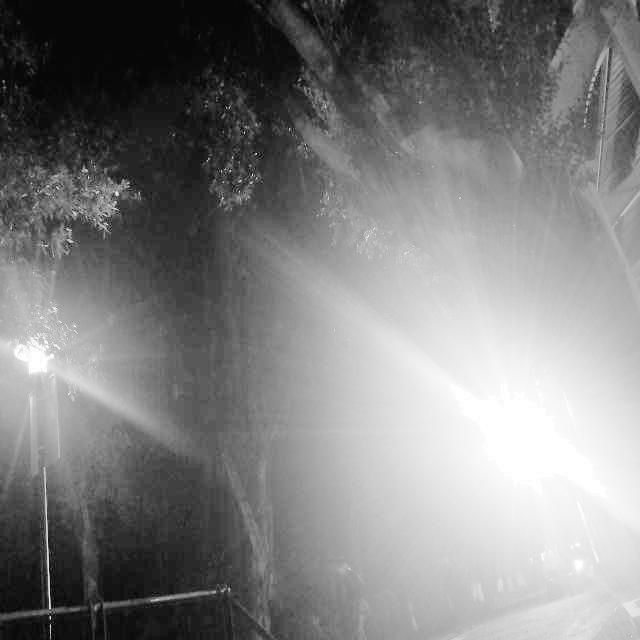Light: (335, 165, 640, 639), (3, 267, 184, 537)
